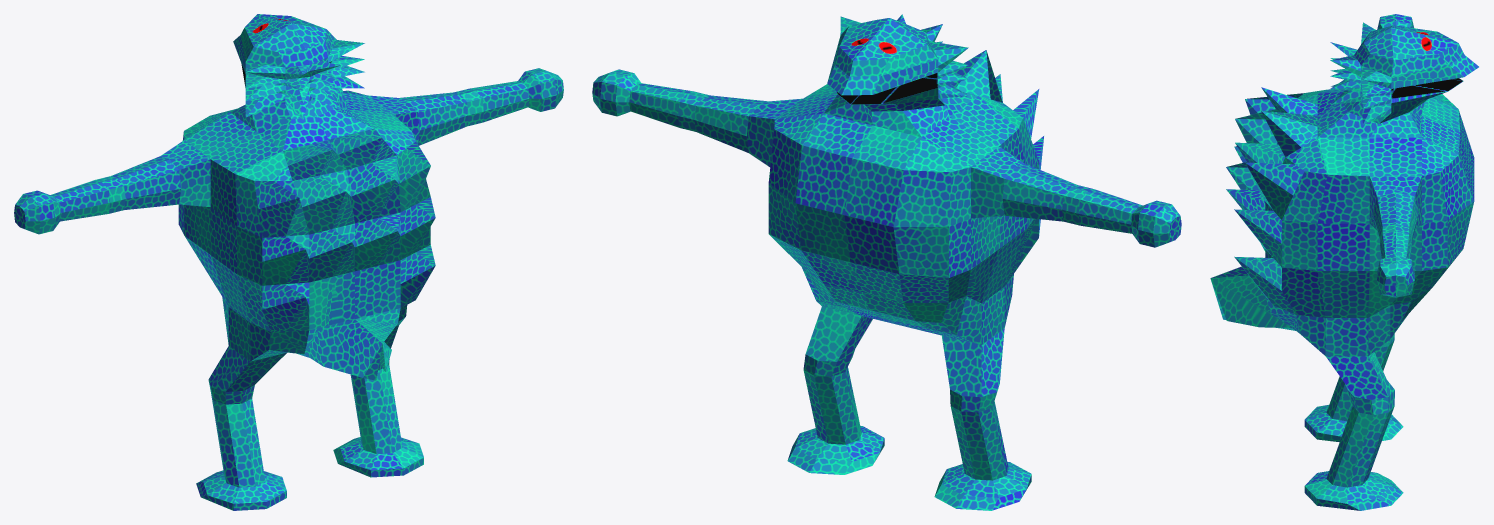
File: NewTinyEnemy.fbx
The picture shows the model from 3 angles, left to right: view 1: azimuth 30°, elevation 25°; view 2: azimuth 150°, elevation 25°; view 3: azimuth 270°, elevation 25°; orthographic projection. The views are drawn at different scales.
Parts seen in each view (by area): view 1: Cube; view 2: Cube; view 3: Cube.
Boxes of the visible parts, x1=… form: Cube: x1=14, y1=14, x2=563, y2=510; Cube: x1=592, y1=14, x2=1181, y2=510; Cube: x1=1210, y1=14, x2=1478, y2=510.
Size of the model in its own units: 3.77 by 2.93 by 1.65.
Materials: 1 (1 with a texture image).
